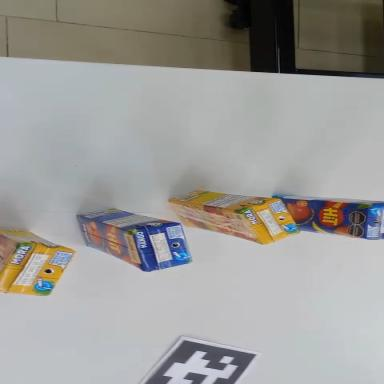HIT-MANGO: (69, 201, 197, 280), (271, 195, 384, 240)
HIT-MORA: (166, 188, 301, 247), (0, 227, 76, 299)
cara_F: (66, 214, 154, 271), (163, 200, 267, 245), (270, 197, 369, 239), (0, 233, 21, 273)
